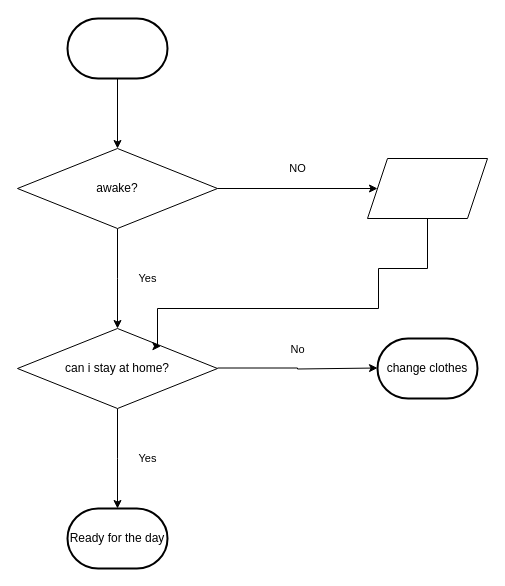
This 505x586 diagram has some shape labels left out. The box of each missing label's shape, as (x1, y1, x2, y2) in pixels:
Drink coffee: (366, 158, 488, 218)
Morning be ready for the day: (66, 17, 168, 79)
